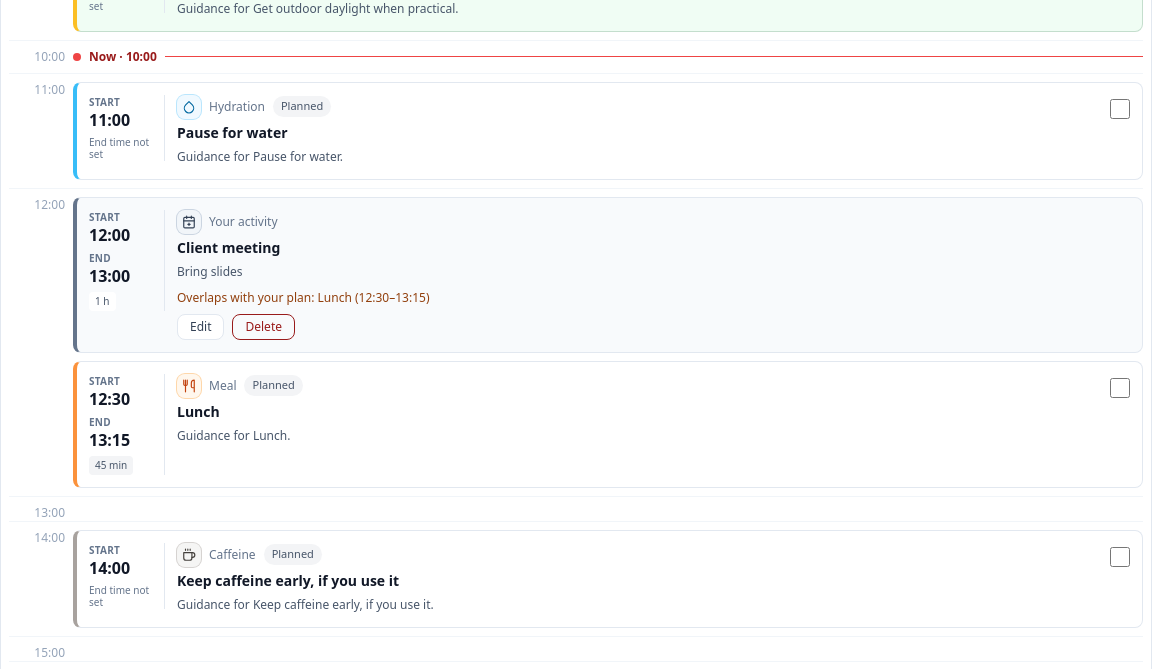
Test: DailyDashboard personal activities › deletes an activity after confirmation
The image size is (1152, 669).
(page scrolled)
Click the button with aria-label "Delete Client meeting" at coordinates (264, 326), box [232,314,295,340]
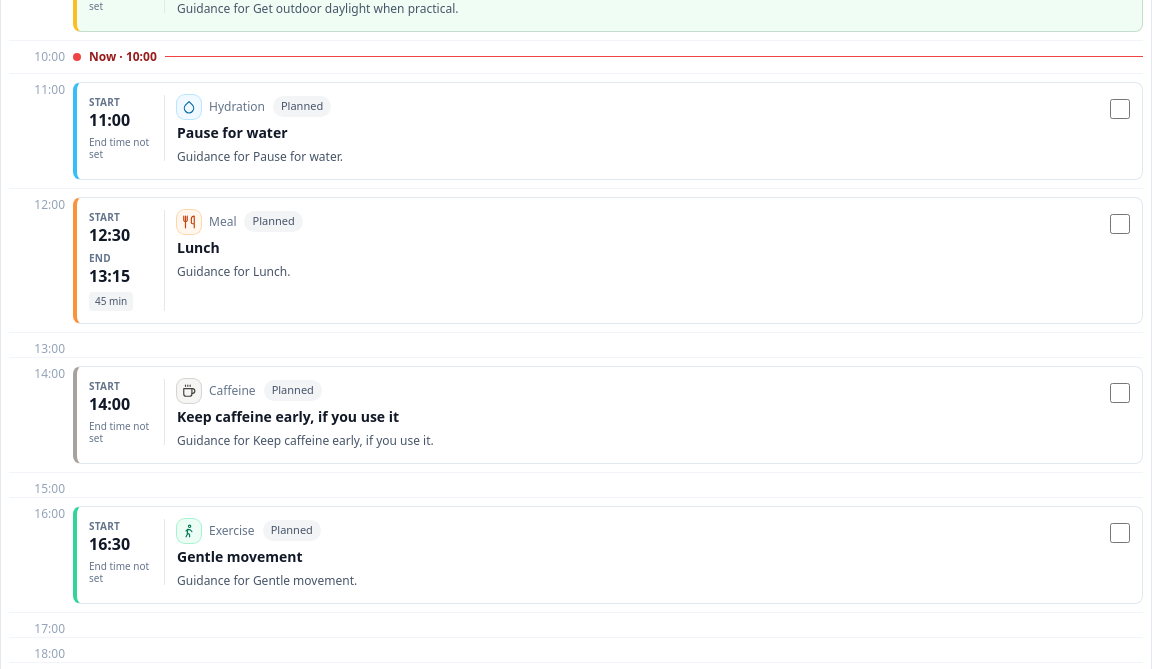
Result: the text "Client meeting" is gone
